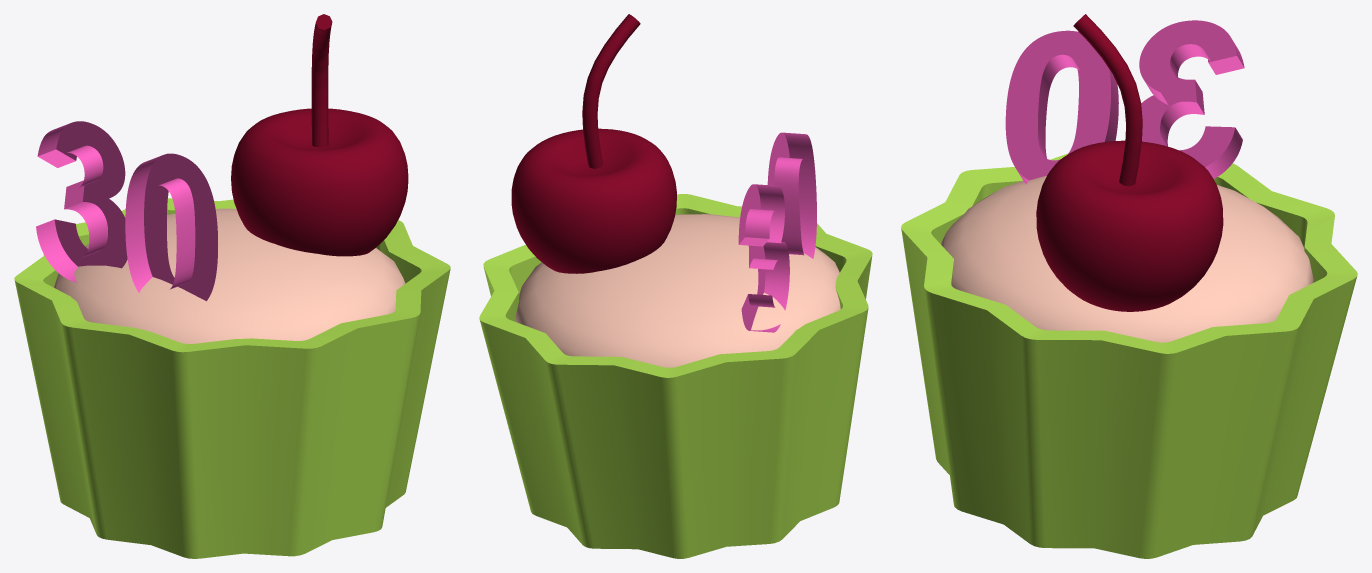
The model's file is cake13.glb.
The picture shows the model from 3 angles, left to right: view 1: azimuth 30°, elevation 25°; view 2: azimuth 150°, elevation 25°; view 3: azimuth 270°, elevation 25°; orthographic projection. The views are drawn at different scales.
Bounding box in the file's own units: 0.3102 × 0.384 × 0.3115.
